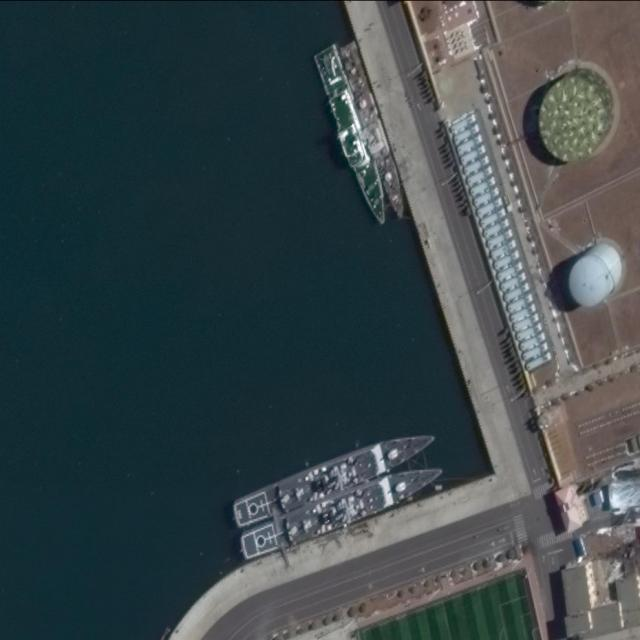Auxiliary Ships: (235, 458, 450, 558), (228, 426, 442, 526)
Other Warship: (310, 47, 394, 230), (337, 41, 413, 222)
